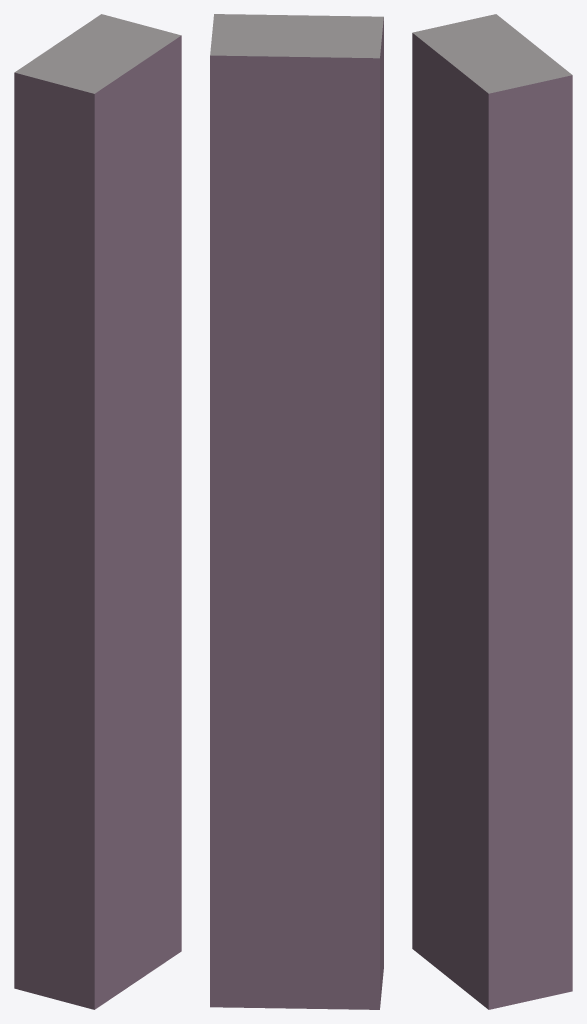
Rendered from nyc-1089796-0.glb.
3 views of the same model, side by side, from view 1: azimuth 30°, elevation 25°; view 2: azimuth 150°, elevation 25°; view 3: azimuth 270°, elevation 25° (orthographic). The views are drawn at different scales.
Parts seen in each view (by area): view 1: nyc-1089796-0; view 2: nyc-1089796-0; view 3: nyc-1089796-0.
Boxes of the visible parts, bbox=[...] form: nyc-1089796-0: bbox=[14, 14, 181, 1009]; nyc-1089796-0: bbox=[210, 14, 383, 1009]; nyc-1089796-0: bbox=[412, 14, 572, 1009].
Size of the model in its own units: 32.64 by 175 by 27.74.
